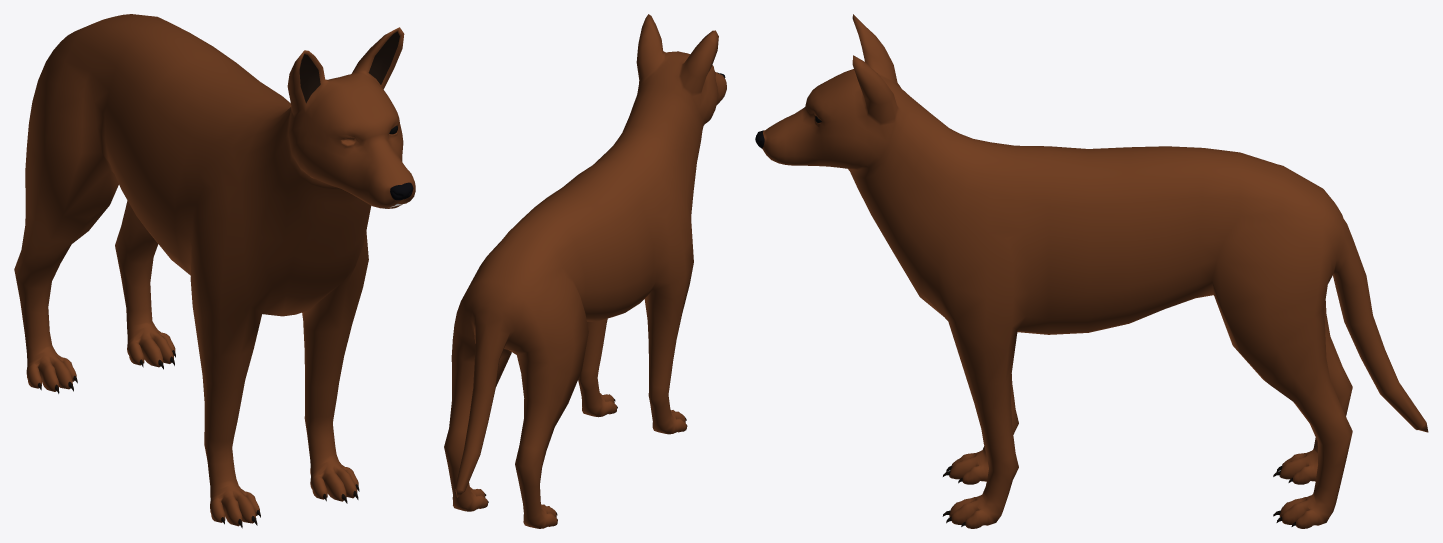
Rendered from dog.obj.
3 views of the same model, side by side, from view 1: azimuth 30°, elevation 25°; view 2: azimuth 150°, elevation 25°; view 3: azimuth 270°, elevation 25° (orthographic). The views are drawn at different scales.
Visible parts, largest first — view 1: dog; view 2: dog; view 3: dog.
Boxes of the visible parts, x1,y1,x2,y2 form: dog: [14, 14, 415, 528]; dog: [444, 14, 726, 528]; dog: [755, 14, 1428, 528].
Size of the model in its own units: 0.282 by 0.8789 by 1.15.
